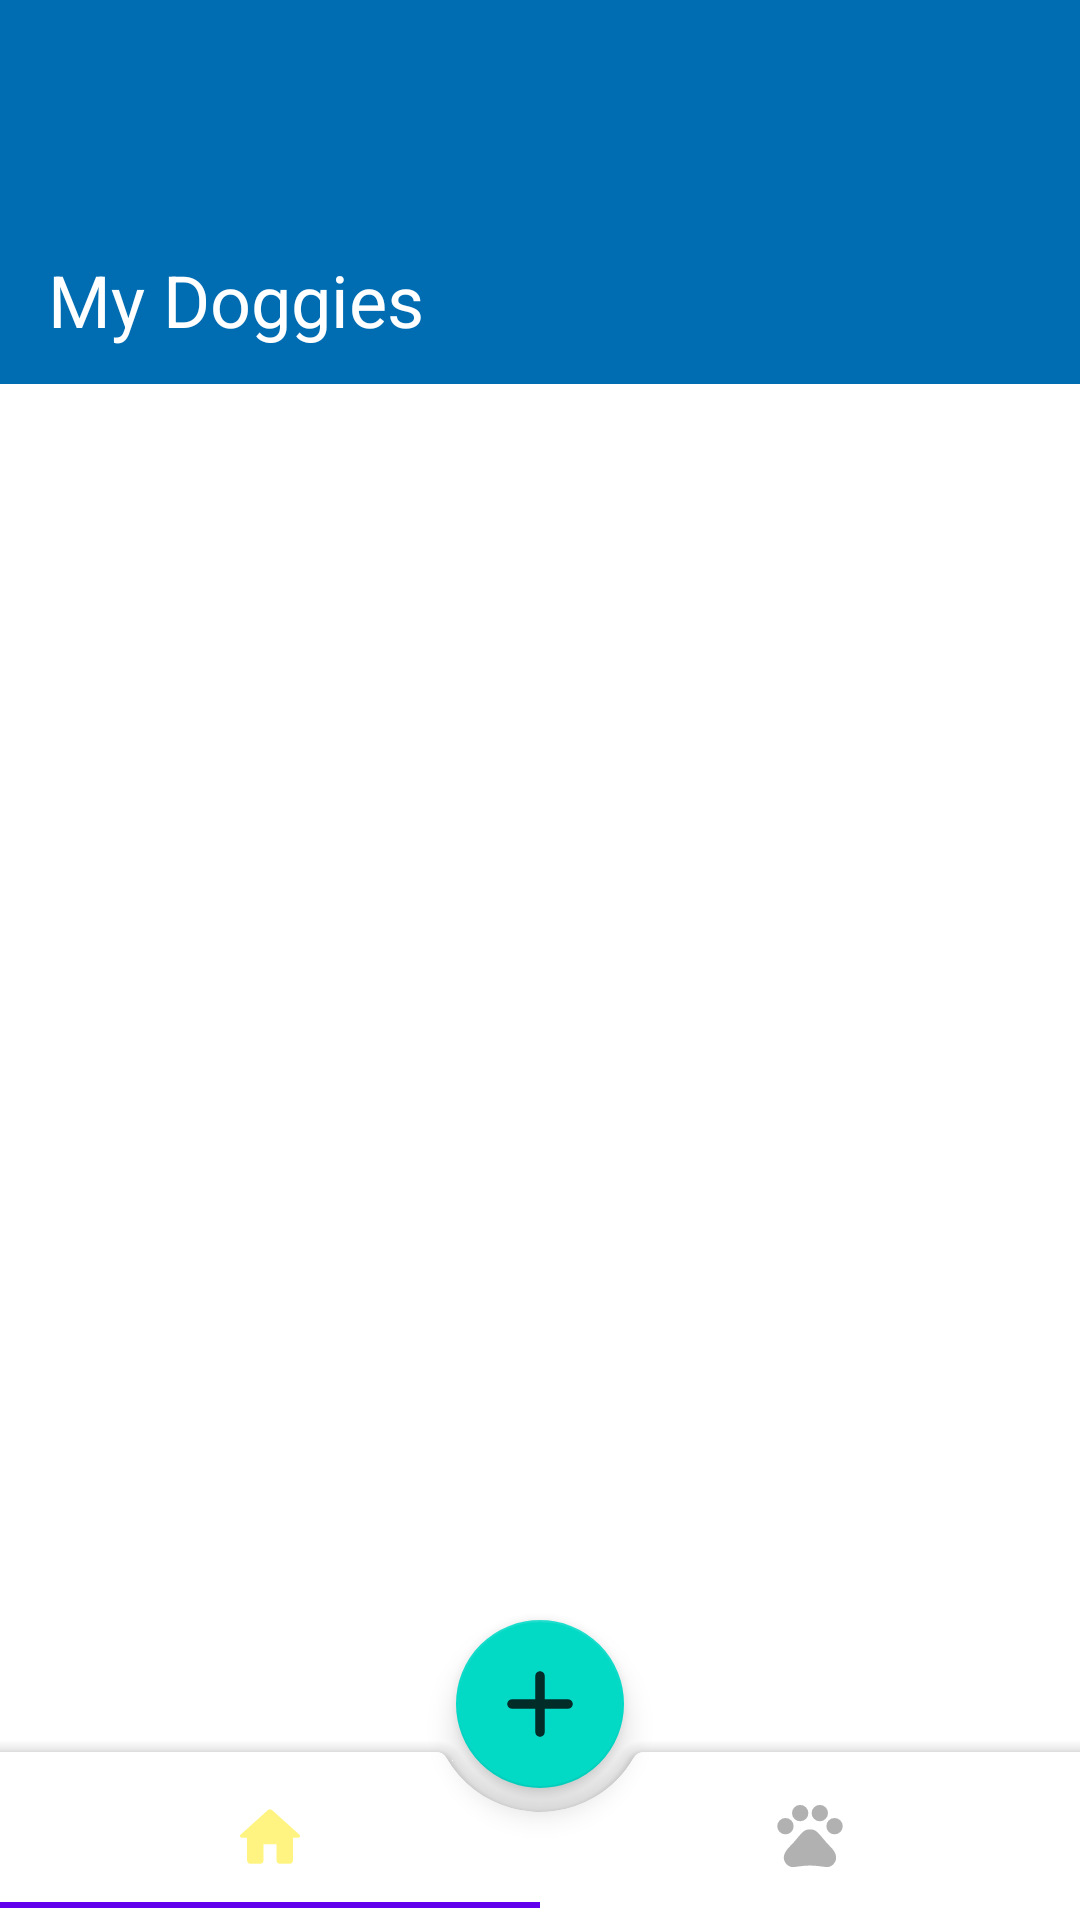

Icon click points for this 1080px x 1920px phone screenshot, format point (x, y):
add: point (540, 1740)
